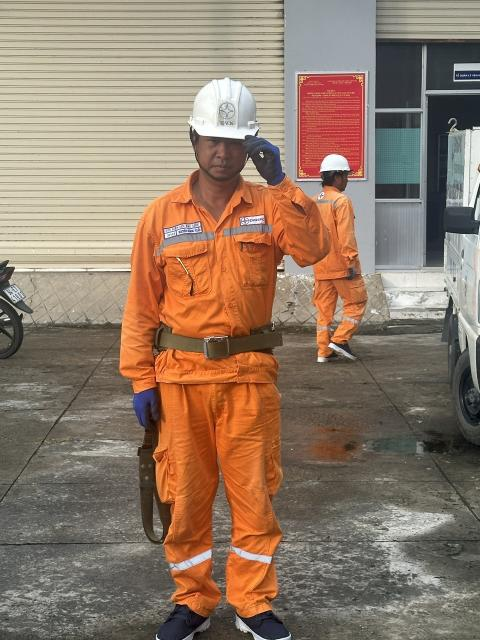gloves: (116, 387, 175, 448), (344, 262, 362, 286)
harness: (145, 333, 294, 363)
helmet: (196, 70, 278, 160), (313, 142, 355, 180)
shoes: (138, 594, 212, 640), (223, 601, 308, 640), (326, 338, 358, 363), (317, 352, 343, 370)
